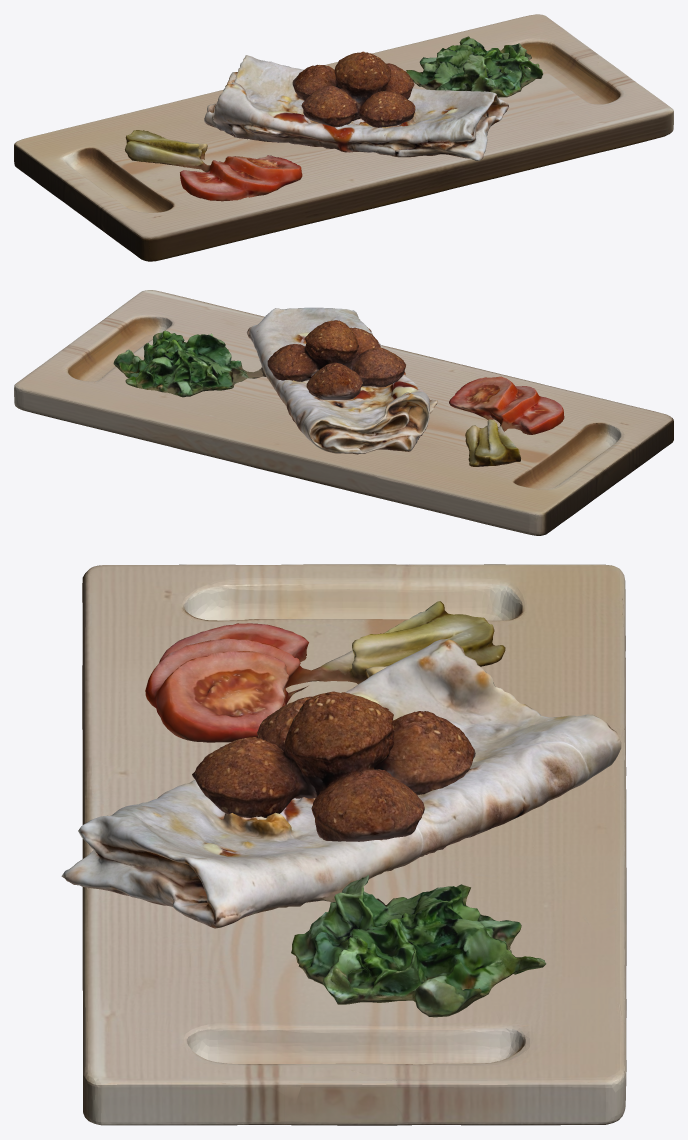
The model's file is felafel.in.lavash.glb.
3 renders of one model, top to bottom at view 1: azimuth 30°, elevation 25°; view 2: azimuth 150°, elevation 25°; view 3: azimuth 270°, elevation 25°, orthographic. The views are drawn at different scales.
Parts seen in each view (by area): view 1: world, 3DModel, 3DModel.001; view 2: world, 3DModel, 3DModel.001; view 3: world, 3DModel, 3DModel.001.
Part boxes in pixels (x1=…): world: x1=14, y1=14, x2=673, y2=261; 3DModel: x1=125, y1=36, x2=543, y2=201; 3DModel.001: x1=292, y1=51, x2=415, y2=127; world: x1=14, y1=290, x2=673, y2=535; 3DModel: x1=113, y1=307, x2=564, y2=466; 3DModel.001: x1=267, y1=320, x2=405, y2=399; world: x1=82, y1=564, x2=626, y2=1125; 3DModel: x1=61, y1=601, x2=621, y2=1017; 3DModel.001: x1=192, y1=691, x2=475, y2=841.
Size of the model in its own units: 0.5849 by 0.1004 by 0.2691.
Materials: 3 (3 with a texture image).
